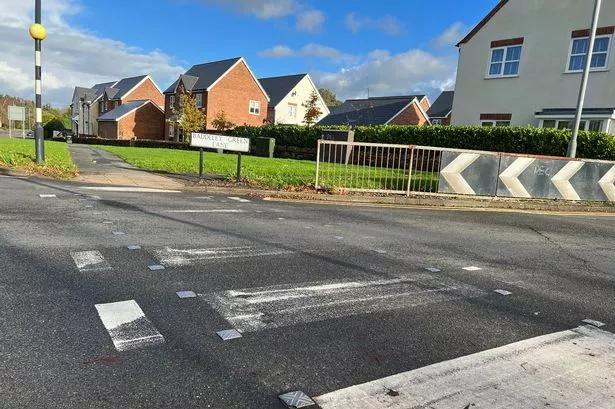faded_road_lines: (16, 174, 615, 409), (201, 261, 500, 336), (40, 189, 364, 239), (148, 236, 369, 273), (97, 294, 166, 360), (63, 244, 112, 290)
